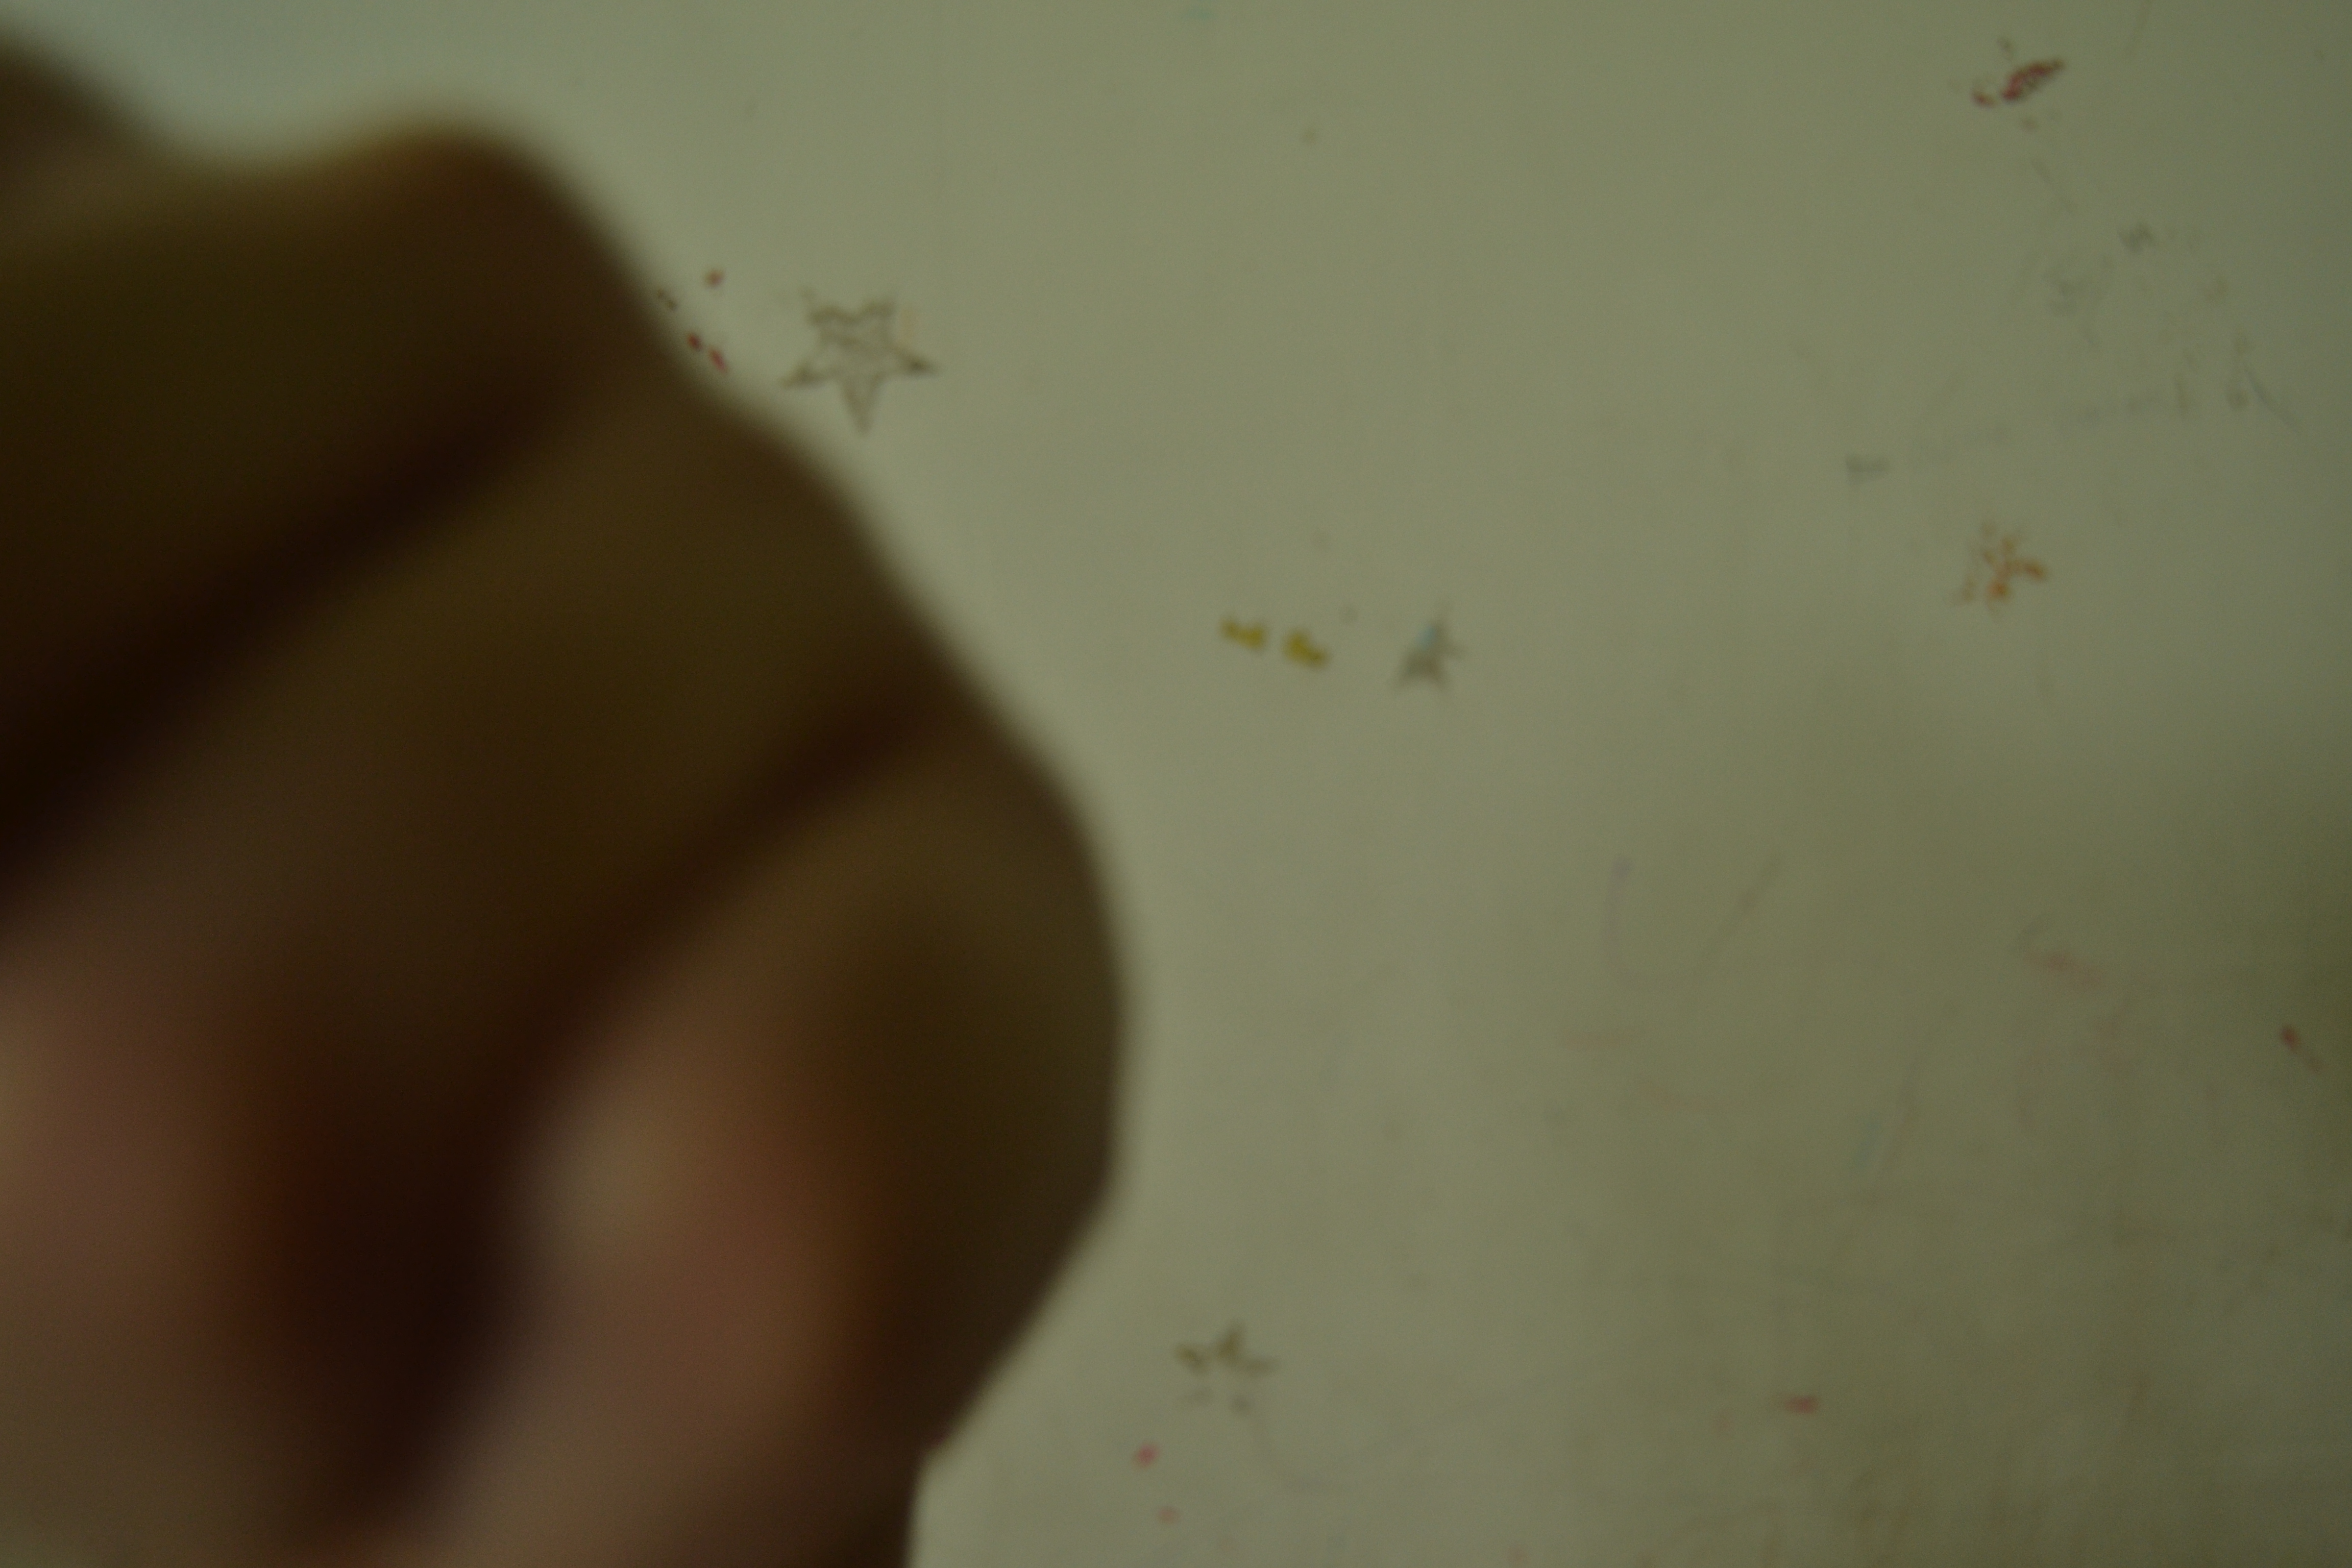click: (75, 75, 1295, 1568)
